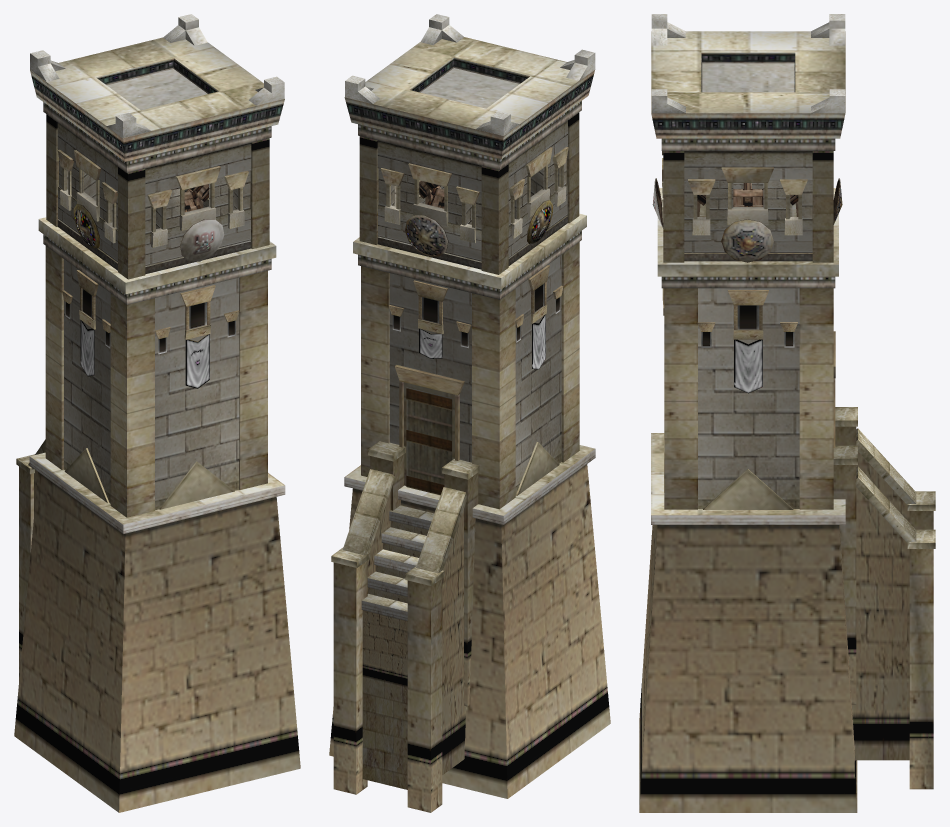
File: tower_artillery.glb
3 views of the same model, side by side, from view 1: azimuth 30°, elevation 25°; view 2: azimuth 150°, elevation 25°; view 3: azimuth 270°, elevation 25° (orthographic). The views are drawn at different scales.
Visible parts, largest first — view 1: tower_artillery_part0; view 2: tower_artillery_part0; view 3: tower_artillery_part0.
Boxes of the visible parts, x1,y1,x2,y2 form: tower_artillery_part0: [14, 14, 300, 812]; tower_artillery_part0: [329, 14, 610, 812]; tower_artillery_part0: [639, 14, 935, 812].
Bounding box in the file's own units: 2.21 × 7.95 × 3.
1 material, 1 textured.
